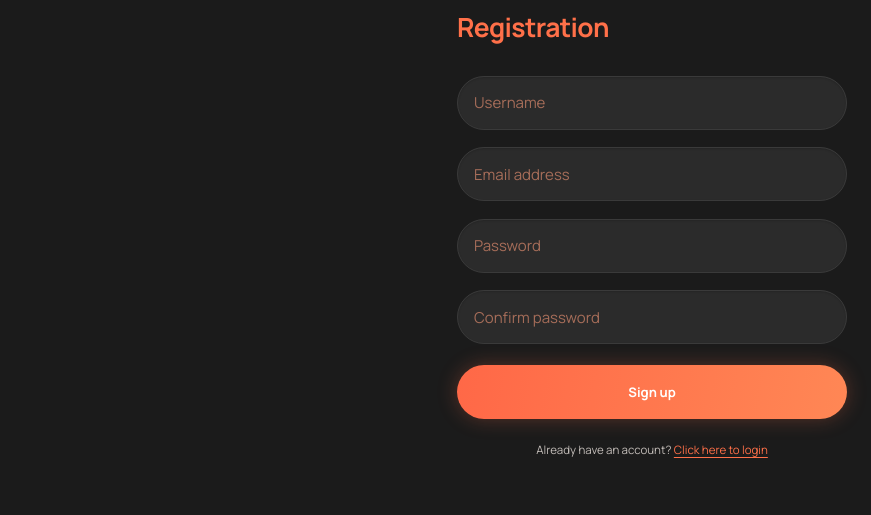
Test: Register page › rejects mismatched passwords before making a request
In the field labelled "Username": point(652, 103) [457,76,847,130], type "new-listener"
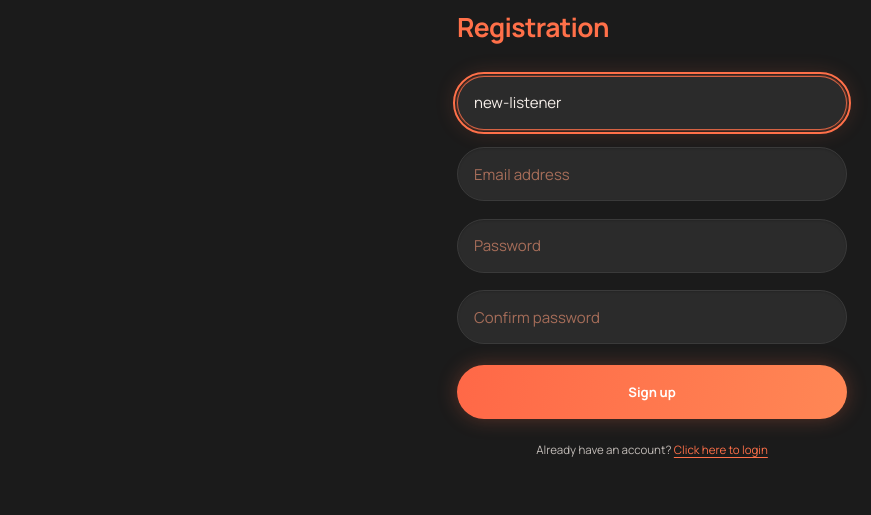
In the field labelled "Email": point(652, 174) [457,147,847,201], type "new@example.com"
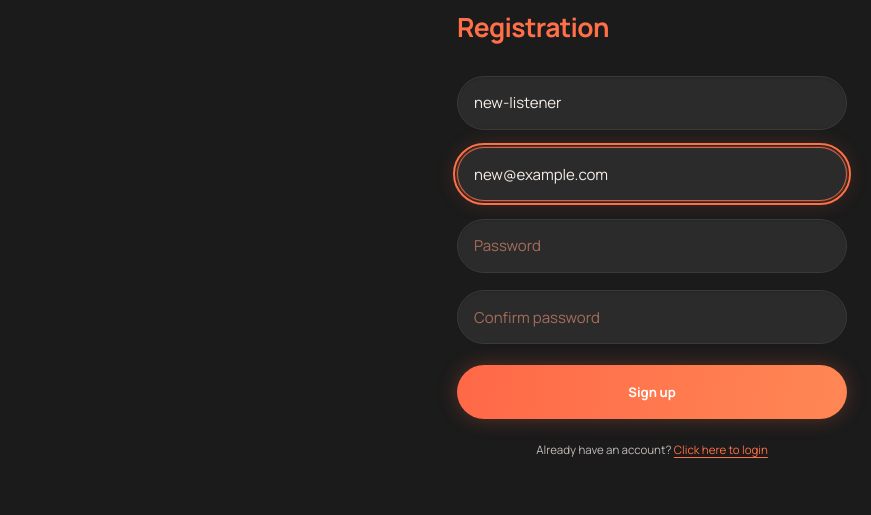
In the password field labelled "Password": point(652, 246) [457,219,847,273], type "secure-password"
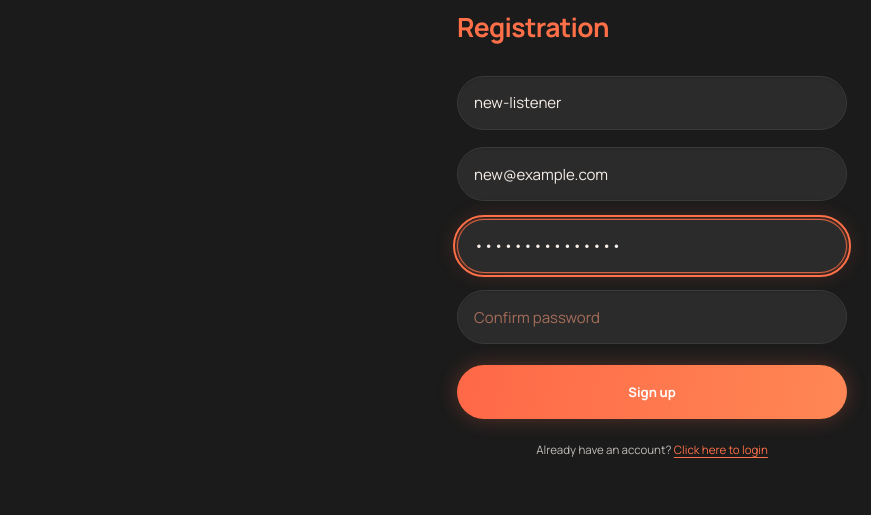
In the password field labelled "Confirm password": point(652, 318) [457,290,847,344], type "different-password"
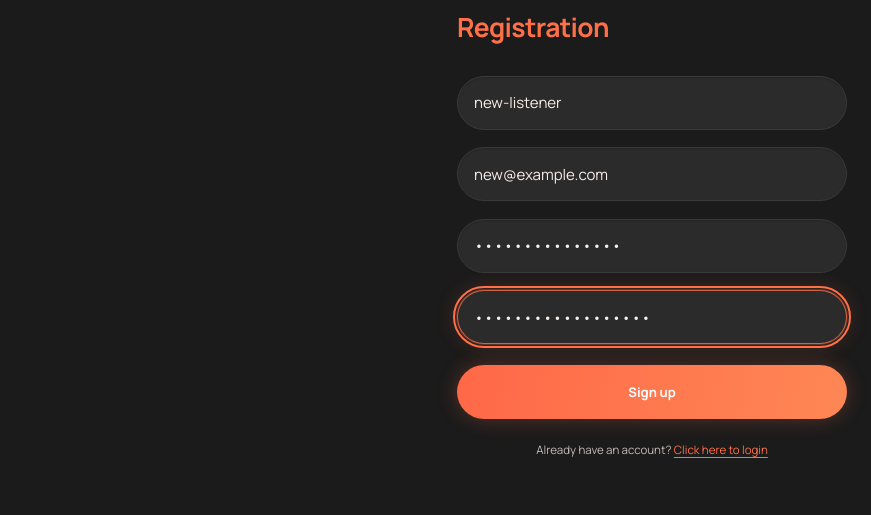
Click the button "Sign up": point(652, 392) [457,365,847,419]
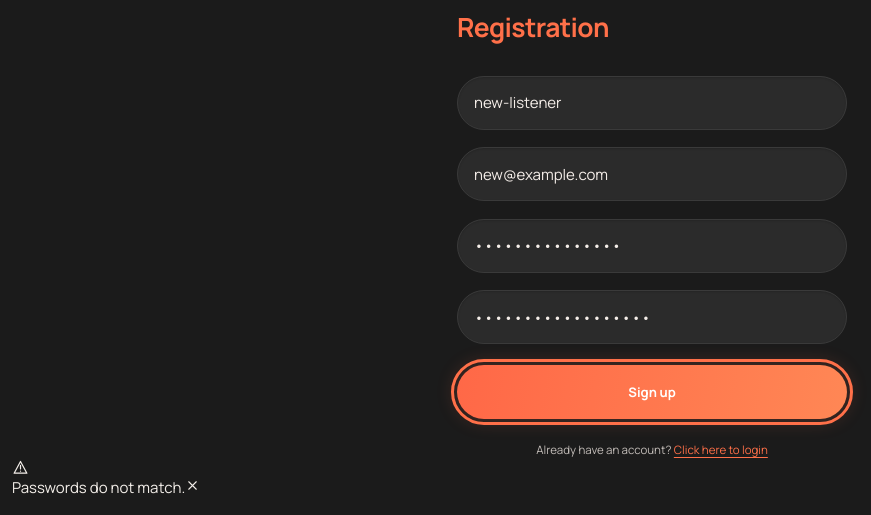
expect the message reads "Passwords do not match.": met, box [12,477,185,498]
